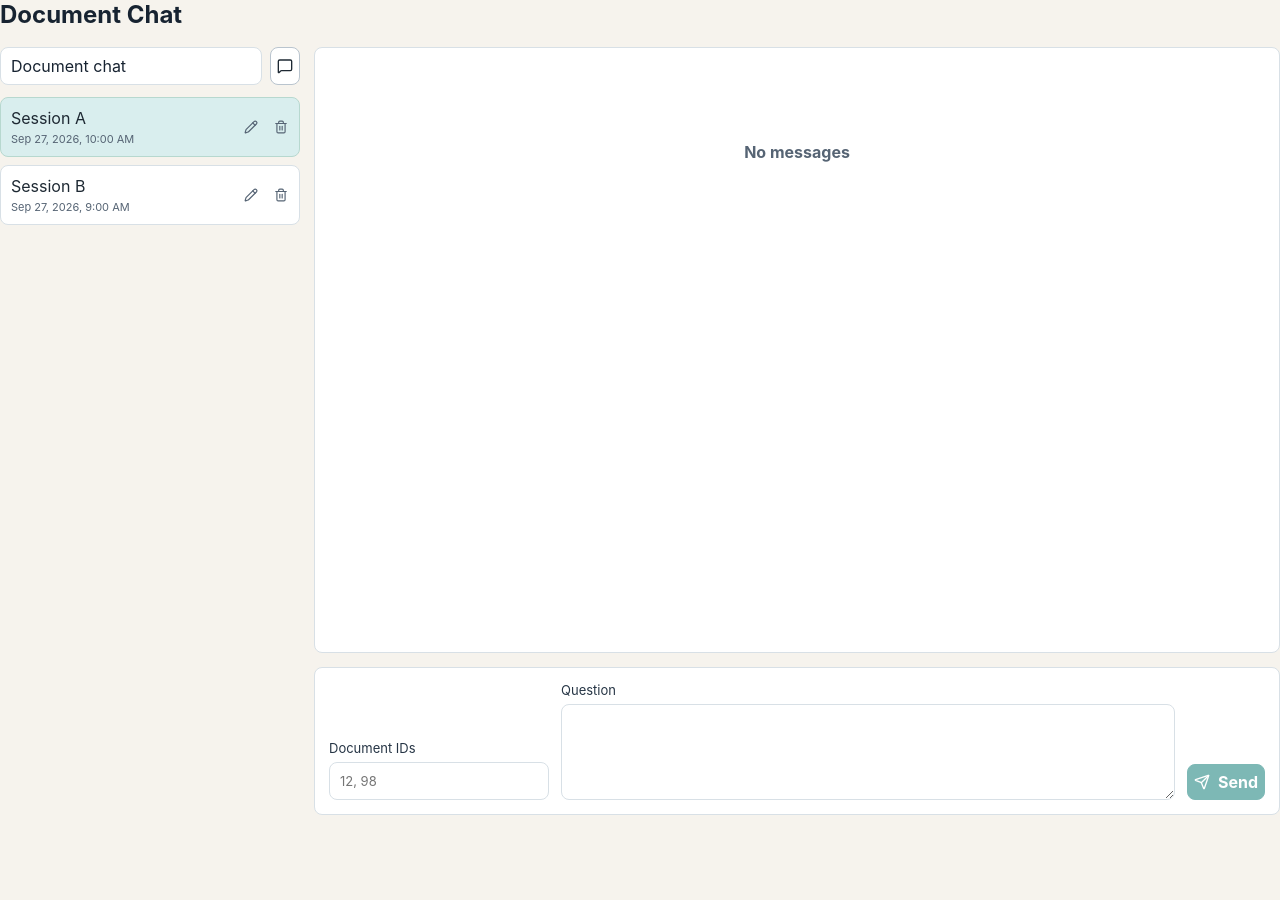
Test case: <DocumentChat> streaming, sources and session management (#449) › deletes a session only after confirmation and selects the next one
Step 1. Click the button named "Delete chat “Session A”" → (281, 127), box [267,113,295,141]
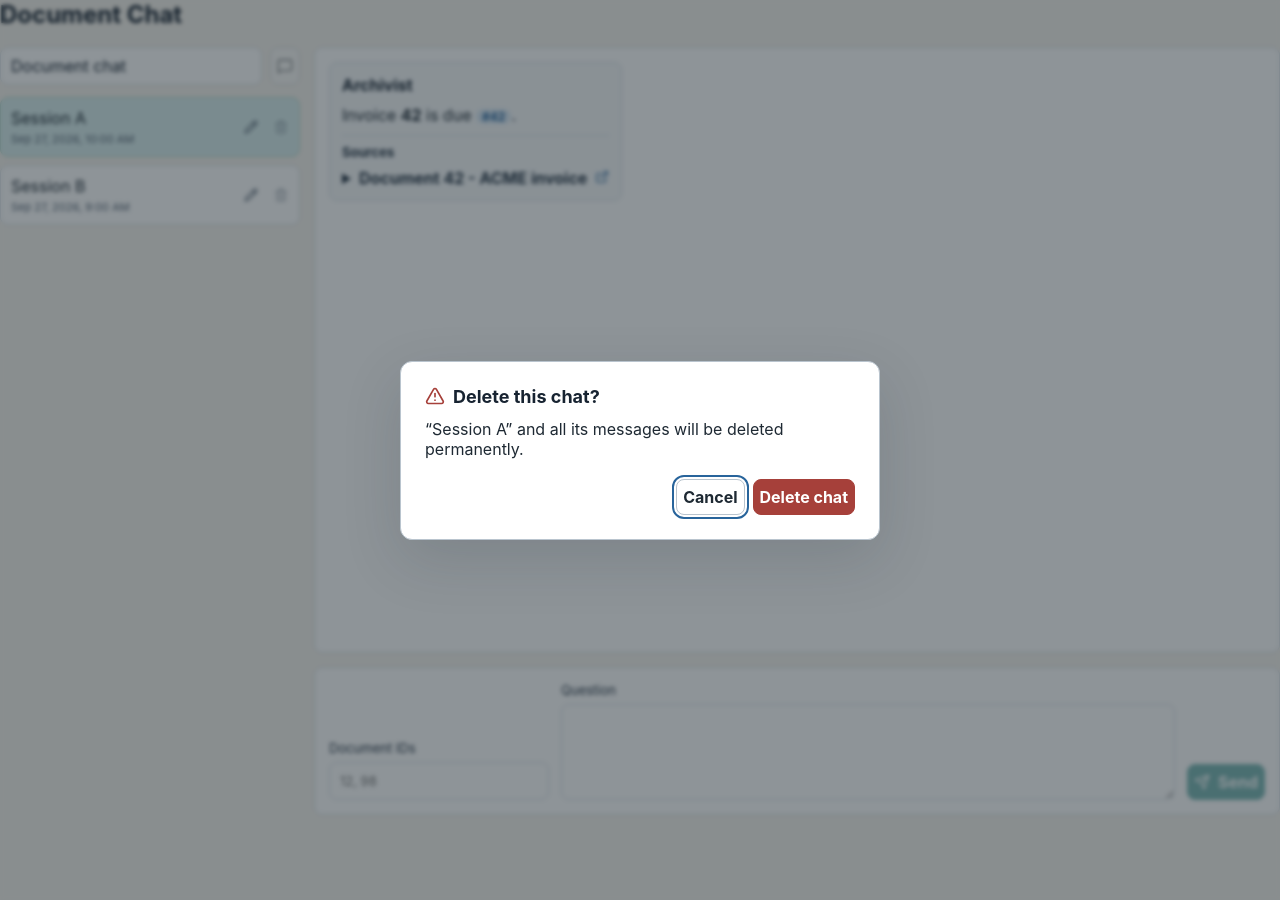
Step 2. Click the button "Cancel" → (710, 496), box [676,478,744,514]
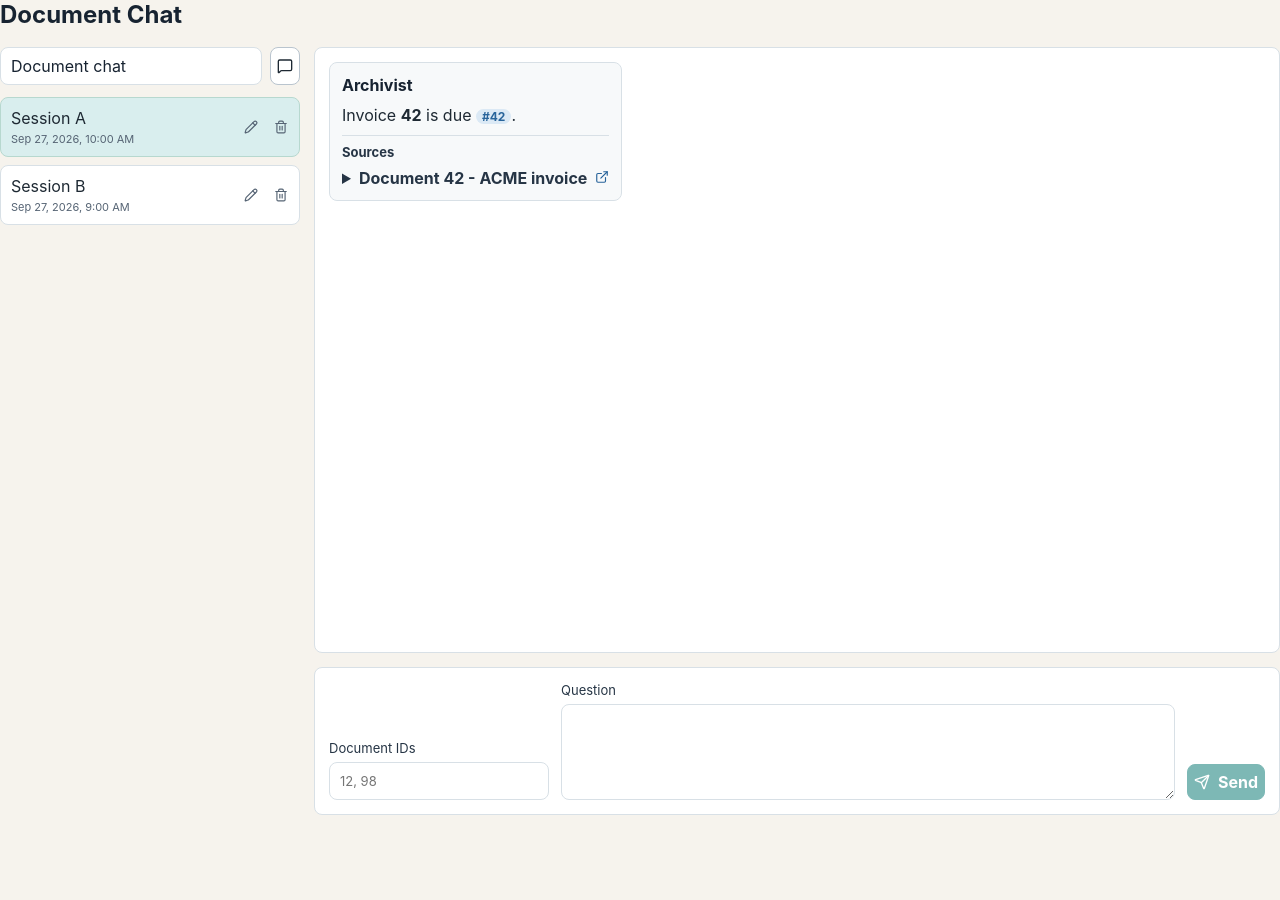
Expected: the button named "Delete chat “Session A”" is enabled
Step 3. Click the button named "Delete chat “Session A”" → (281, 127), box [267,113,295,141]
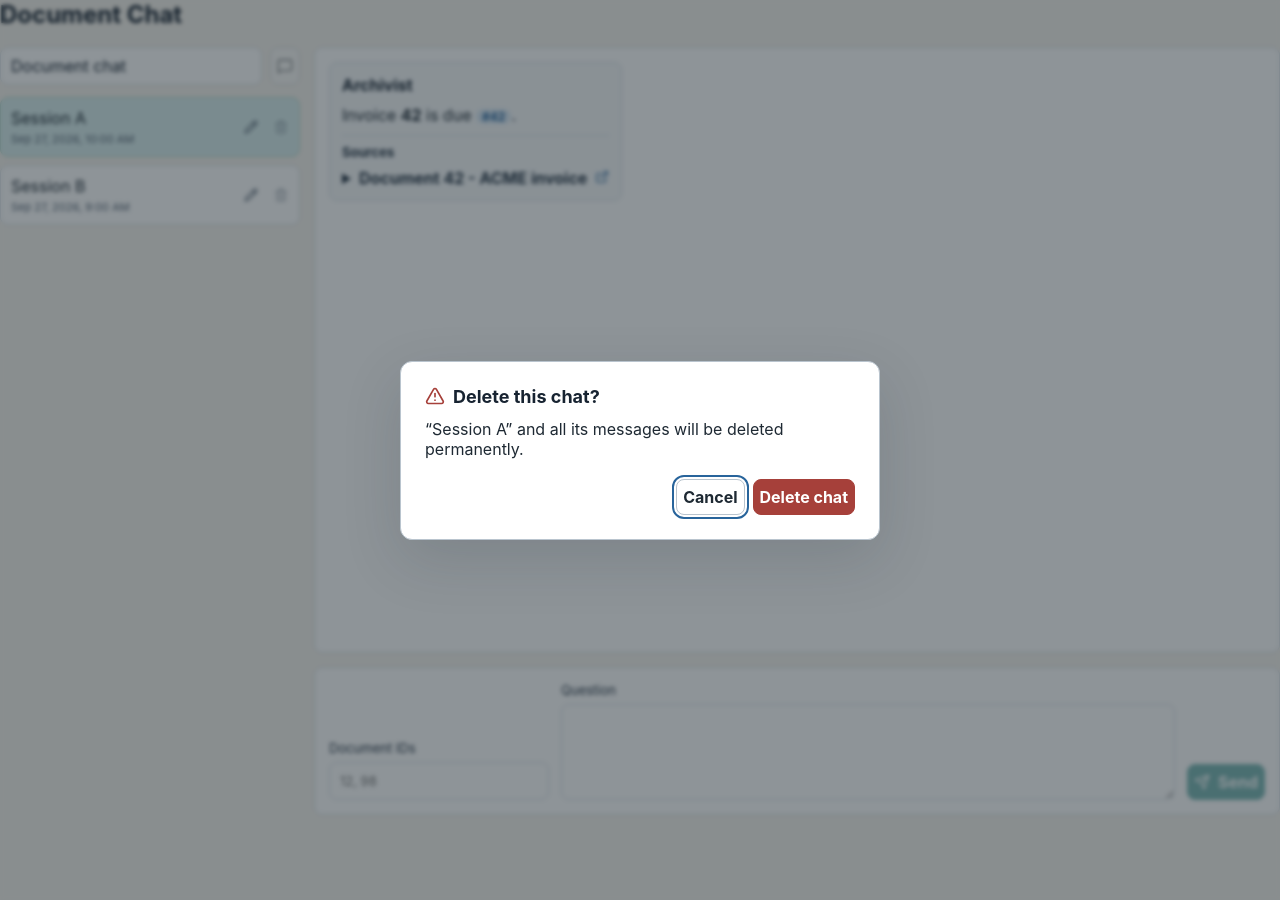
Step 4. Click the button "Delete chat" → (804, 496), box [752,478,855,514]
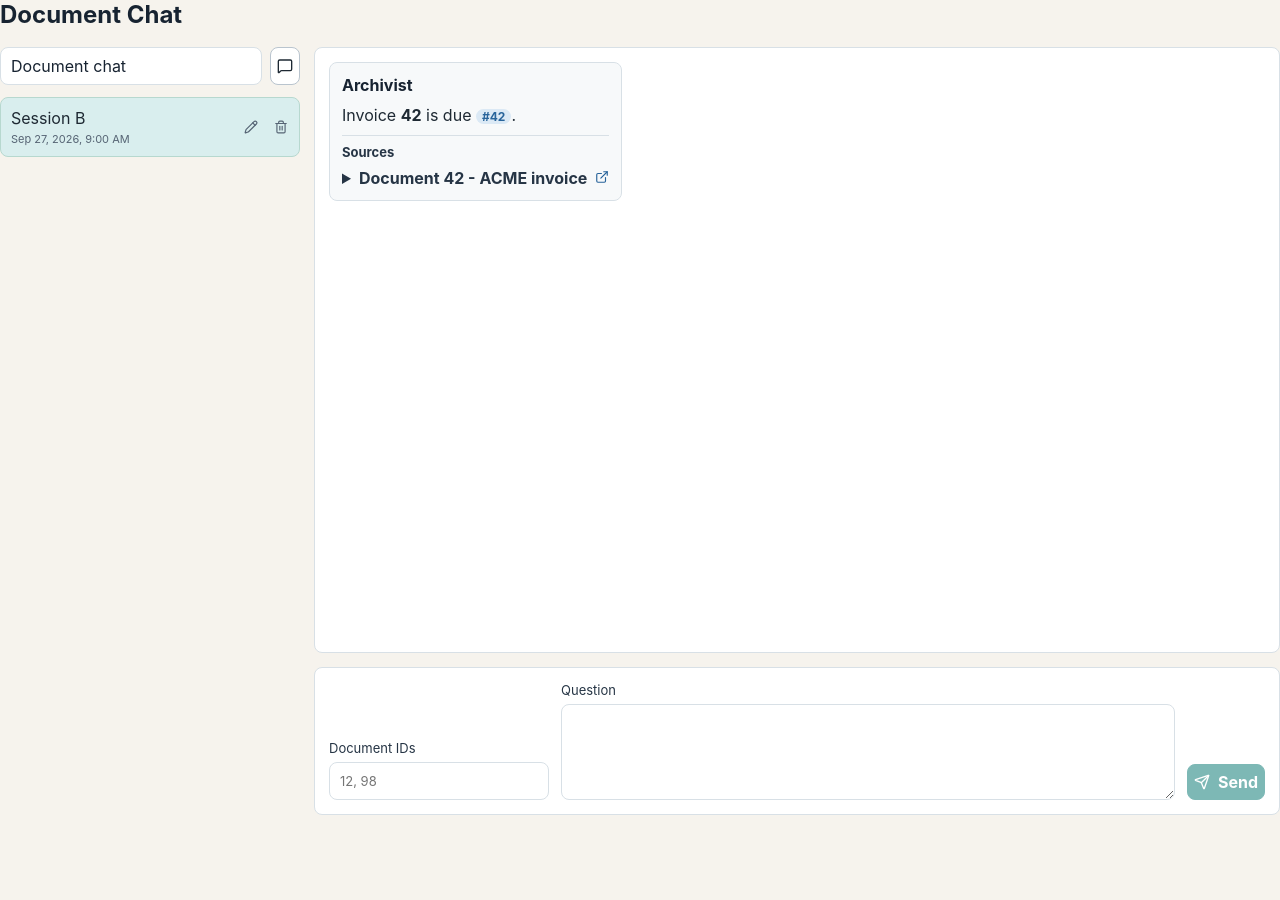
Expected: the button titled "Session A" is gone
